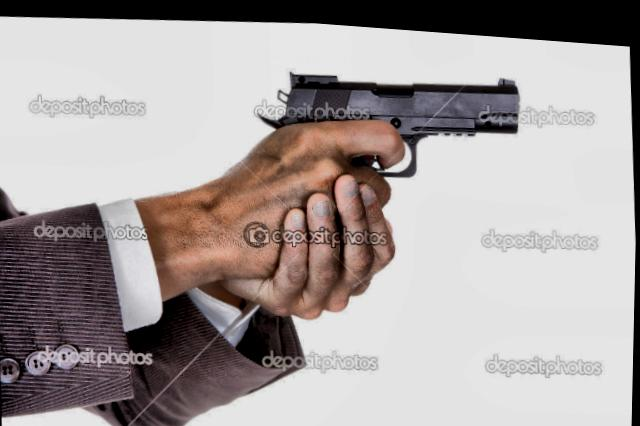pistol: (254, 52, 527, 266)
